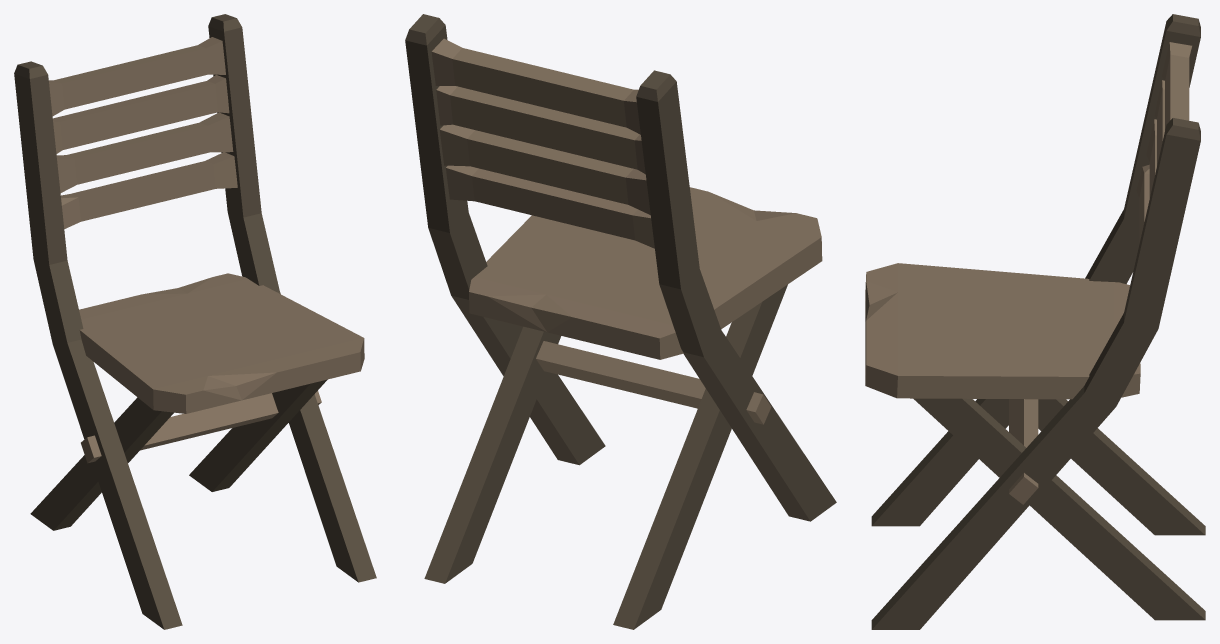
Rendered from SM_Prop_Chair_02.glb.
3 renders of one model, left to right at view 1: azimuth 30°, elevation 25°; view 2: azimuth 150°, elevation 25°; view 3: azimuth 270°, elevation 25°, orthographic. The views are drawn at different scales.
Parts seen in each view (by area): view 1: SM_Prop_Chair_02; view 2: SM_Prop_Chair_02; view 3: SM_Prop_Chair_02.
Boxes of the visible parts, left/top/right/bottom form: SM_Prop_Chair_02: left=14, top=14, right=376, bottom=629; SM_Prop_Chair_02: left=405, top=14, right=836, bottom=629; SM_Prop_Chair_02: left=865, top=14, right=1205, bottom=629.
Bounding box in the file's own units: 0.5028 × 0.9694 × 0.5935.
Materials: 1 (1 with a texture image).
